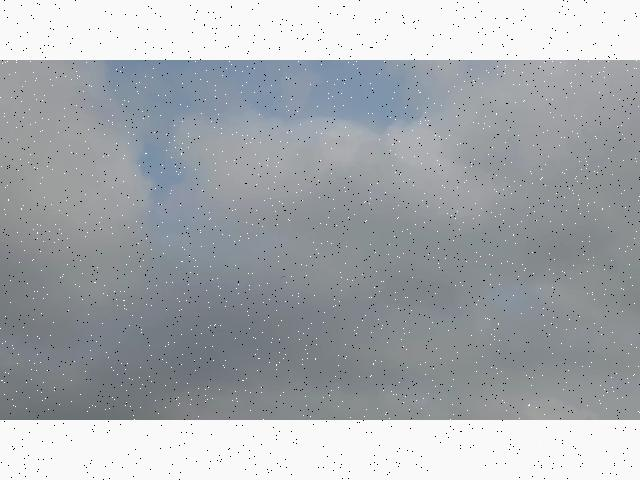Anti-Drone: (280, 275, 284, 278)
